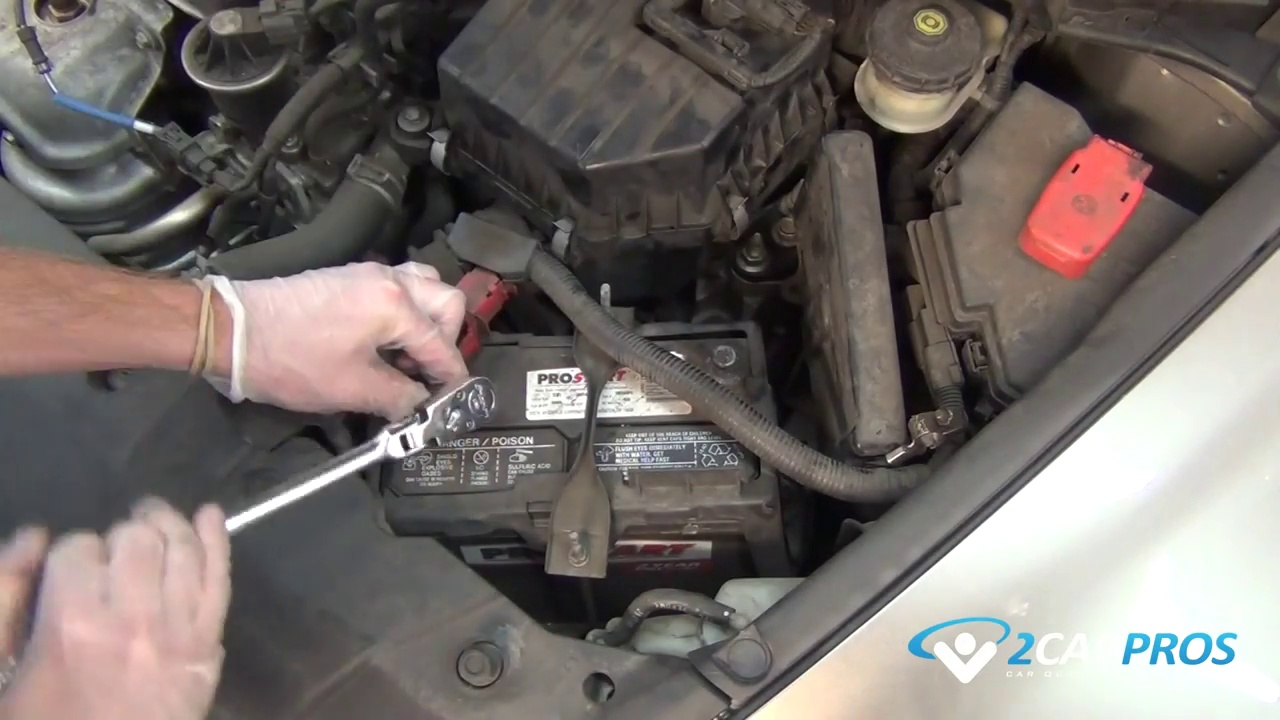battery: (378, 314, 775, 529)
neg_disconnected: (668, 324, 771, 404)
pos_touched: (371, 275, 503, 443)
